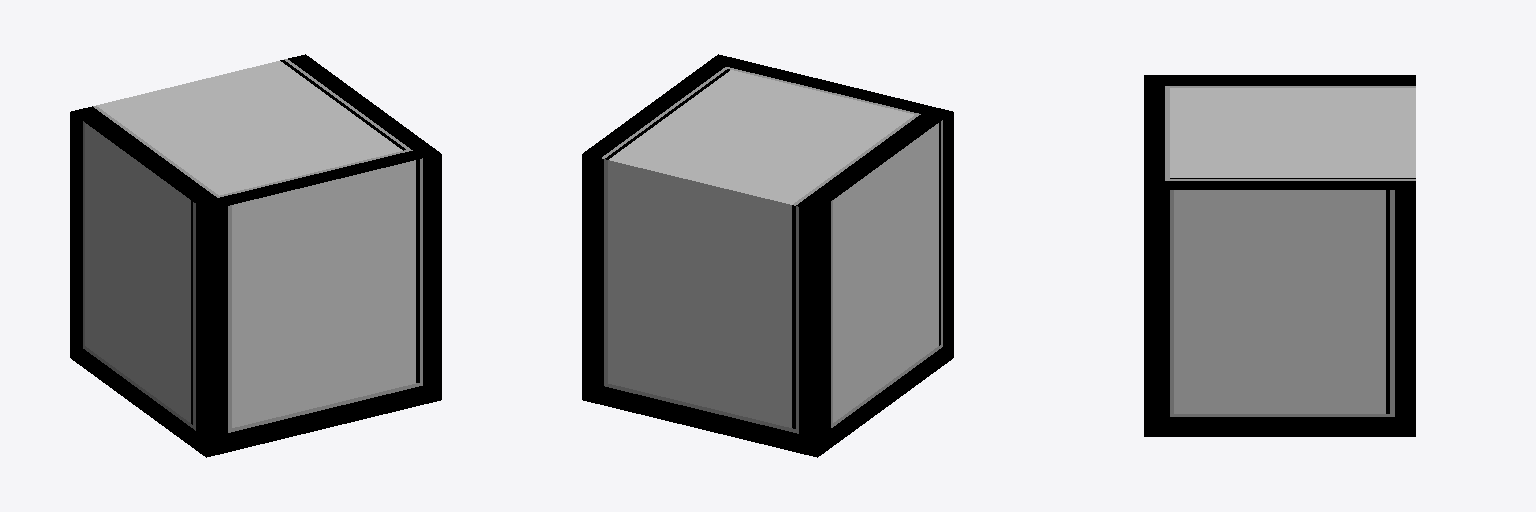
3 views of the same model, side by side, from view 1: azimuth 30°, elevation 25°; view 2: azimuth 150°, elevation 25°; view 3: azimuth 270°, elevation 25° (orthographic).
Parts seen in each view (by area): view 1: dishcounter-bkp-chopped; view 2: dishcounter-bkp-chopped; view 3: dishcounter-bkp-chopped.
Boxes of the visible parts, <box> form: dishcounter-bkp-chopped: <box>70,54,441,457</box>; dishcounter-bkp-chopped: <box>582,54,953,457</box>; dishcounter-bkp-chopped: <box>1144,75,1415,436</box>.
Size of the model in its own units: 1 by 1 by 1.
Materials: 1 (1 with a texture image).